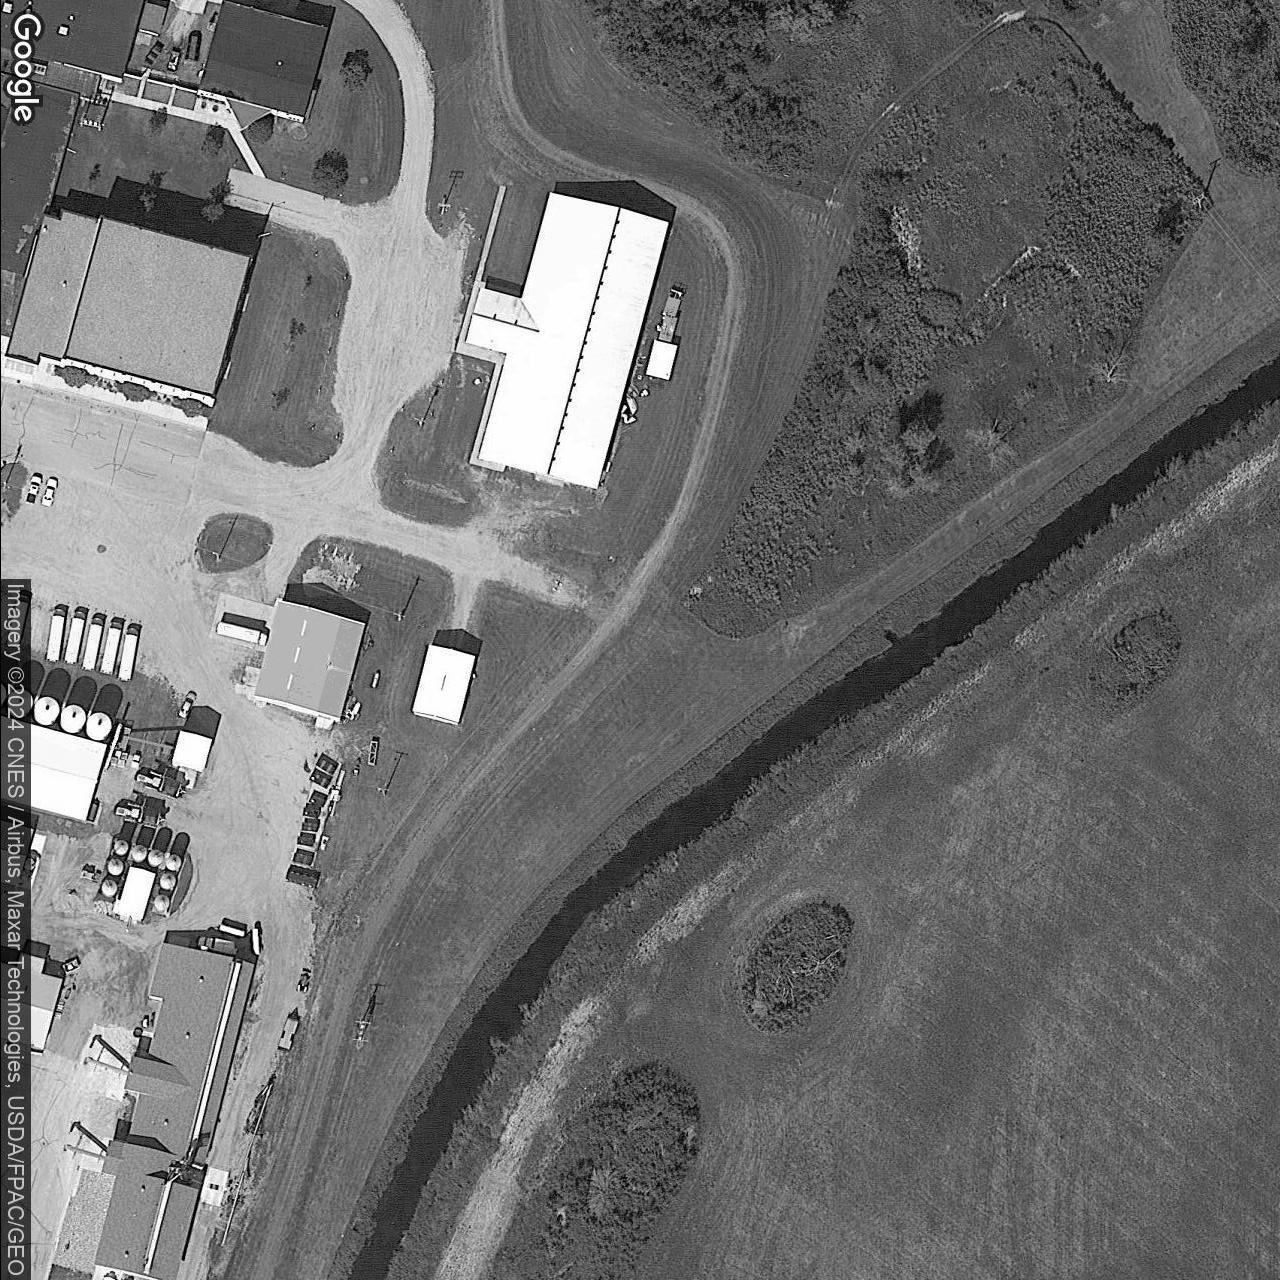Garage: (253, 600, 366, 722), (411, 645, 475, 724)
House: (1, 0, 145, 81), (30, 955, 63, 1051)
Other: (463, 192, 668, 490), (94, 942, 254, 1279), (2, 207, 250, 396), (196, 0, 327, 131), (30, 723, 107, 823), (111, 866, 155, 922), (171, 731, 211, 774)
